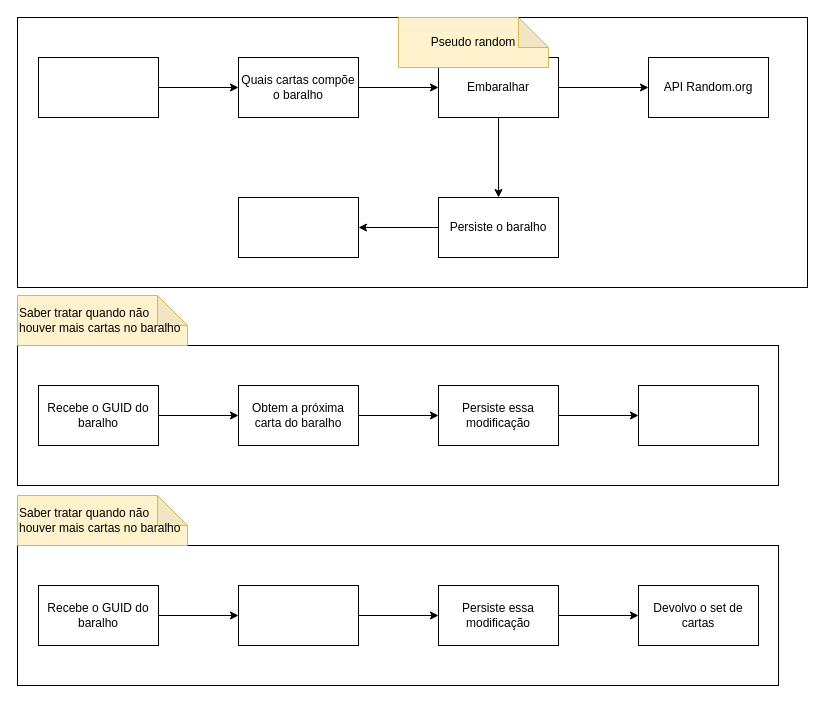
Some shapes in this 825 by 703 pixel diagram are drawn without their labels. The shapes that lost their labels are listed below. From the top down, each one's box as (x1, y1, x2, y2) in pixels, then its label:
(38, 56, 158, 118): Solicitar a geração do baralho
(16, 16, 808, 288): api/deck/new/shuffle
(238, 196, 358, 258): Retorno um GUID
(16, 344, 778, 486): api/deck/{deckGUID}/draw
(638, 384, 758, 446): Devolvo a carta
(238, 584, 358, 646): Obtem as próxima X cartas do baralho
(16, 544, 778, 686): api/deck/{deckGUID}/set/draw/{nº de cartas}
